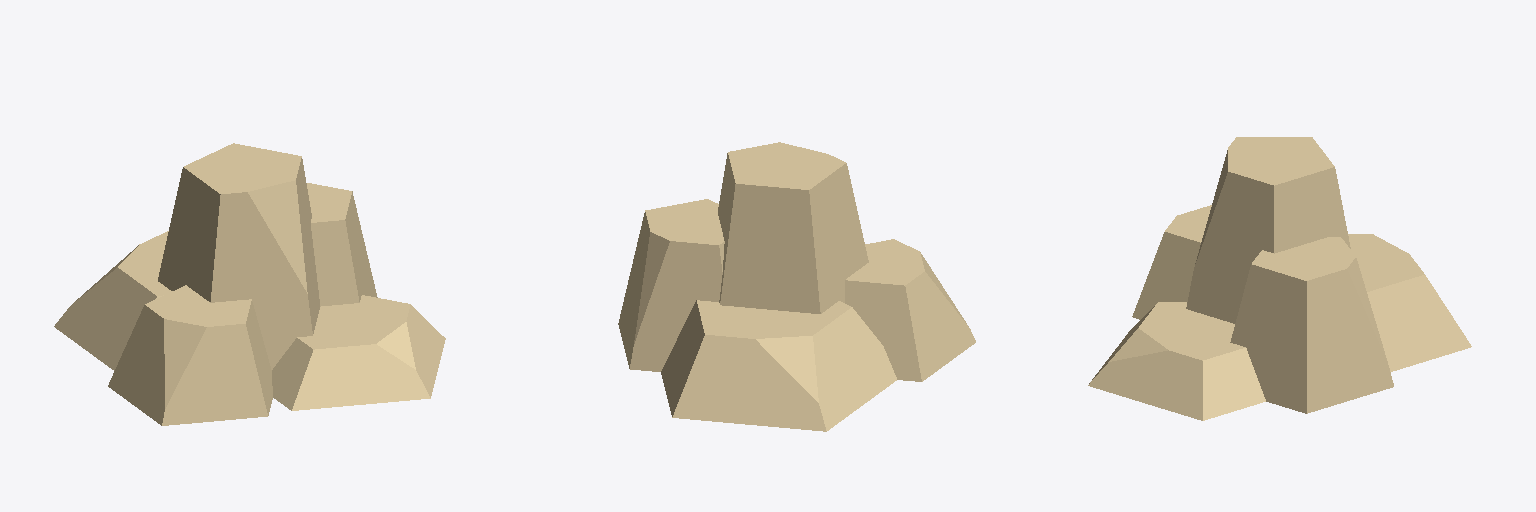
Rendered from rockB.obj.
3 renders of one model, left to right at view 1: azimuth 30°, elevation 25°; view 2: azimuth 150°, elevation 25°; view 3: azimuth 270°, elevation 25°, orthographic.
Visible parts, largest first — view 1: rockB; view 2: rockB; view 3: rockB.
Part boxes in pixels (x1,y1,x2,y2): rockB: (54,143,445,425); rockB: (618,142,975,431); rockB: (1088,137,1471,420).
Bounding box in the file's own units: 2.9 × 1.67 × 3.2.